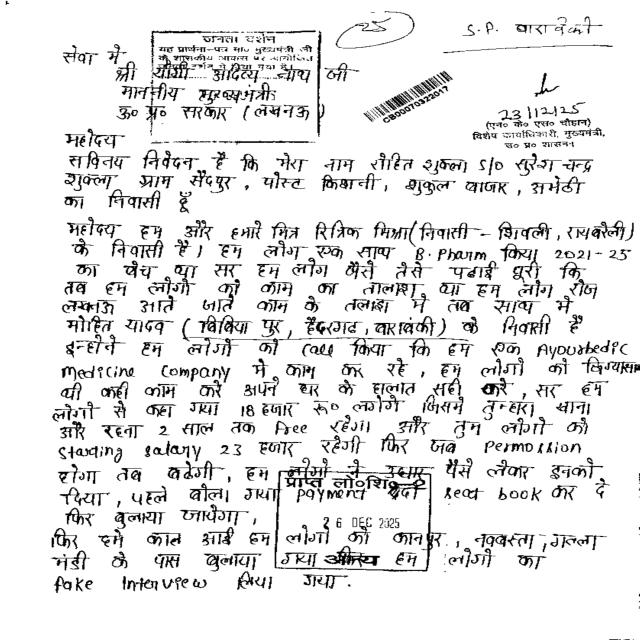antritgovtstamp: (275, 467, 450, 574)
barcode: (352, 69, 468, 129)
jantadarsan: (140, 23, 335, 142)
